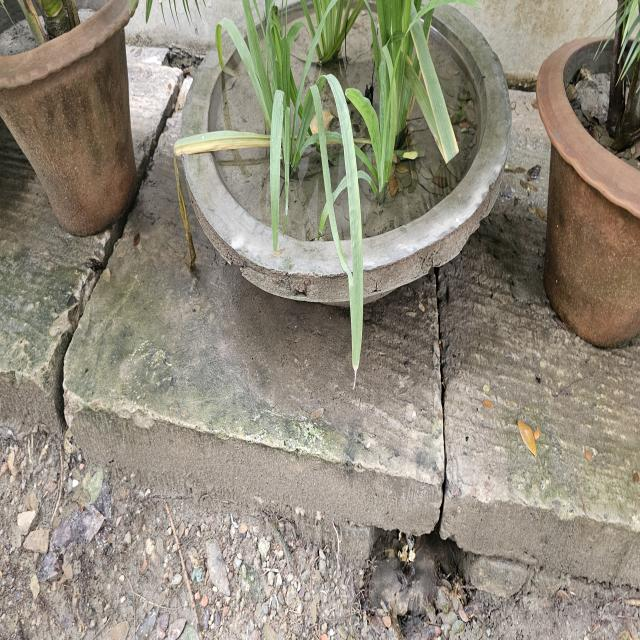artificial_container: (178, 0, 513, 311), (534, 30, 640, 352), (0, 0, 141, 239)
